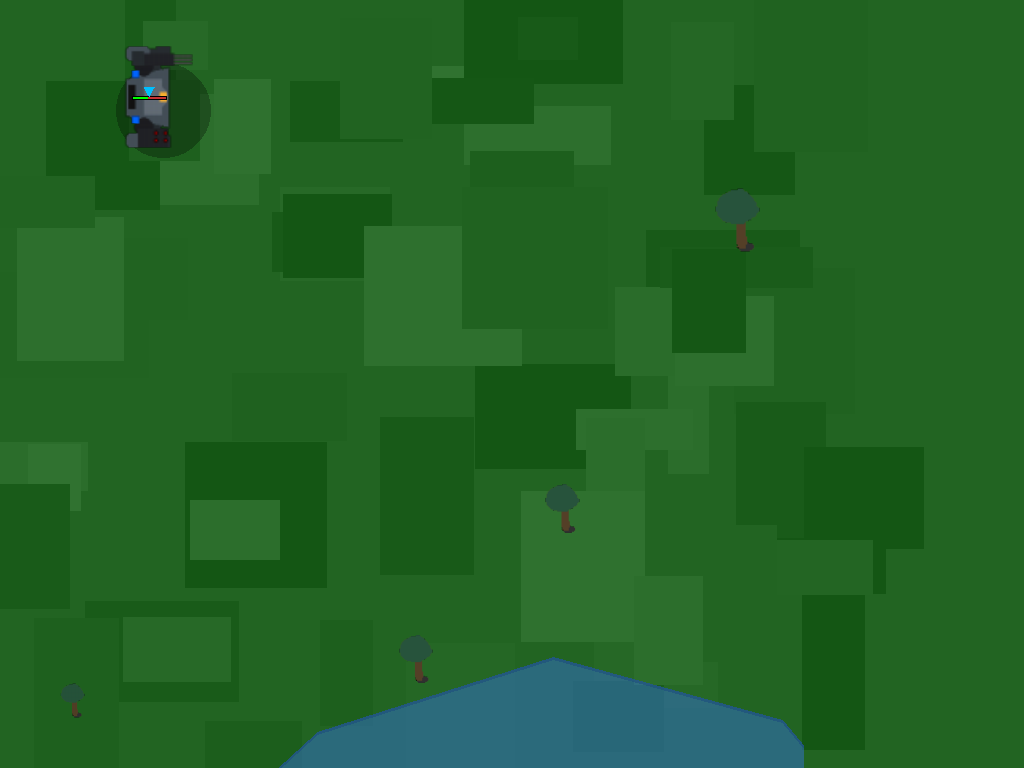HeavyMech: (114, 61, 183, 130)
Lake: (150, 658, 804, 768)
